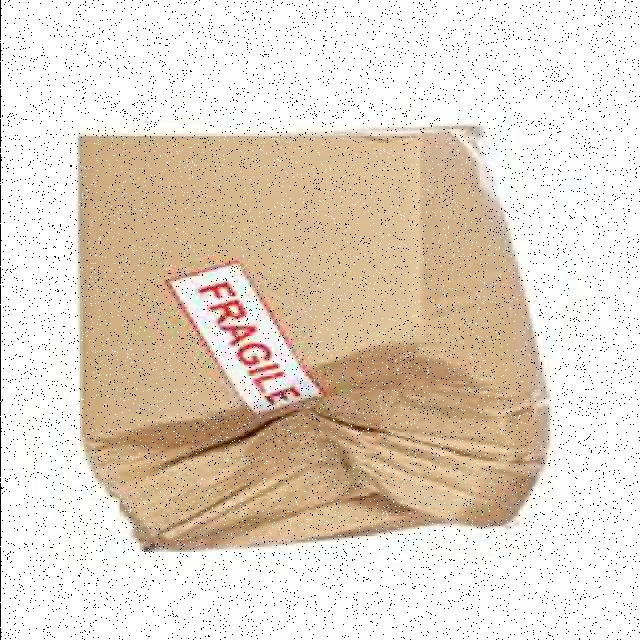defect: (71, 123, 555, 552)
